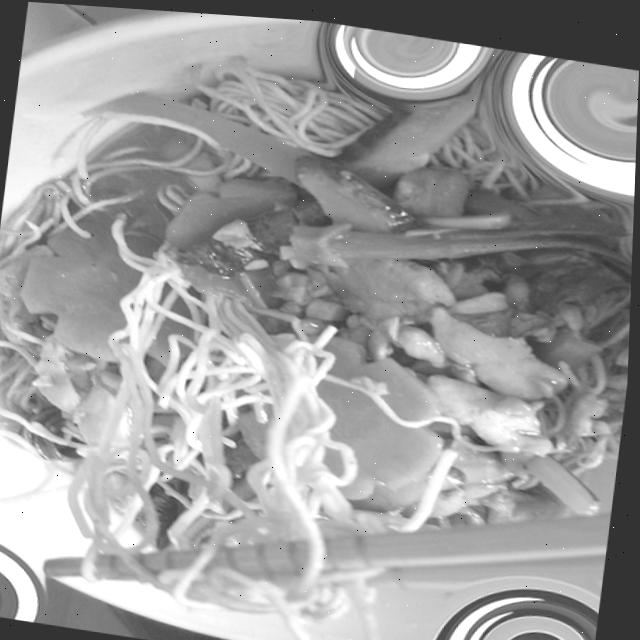面条主食: (0, 31, 639, 640)
